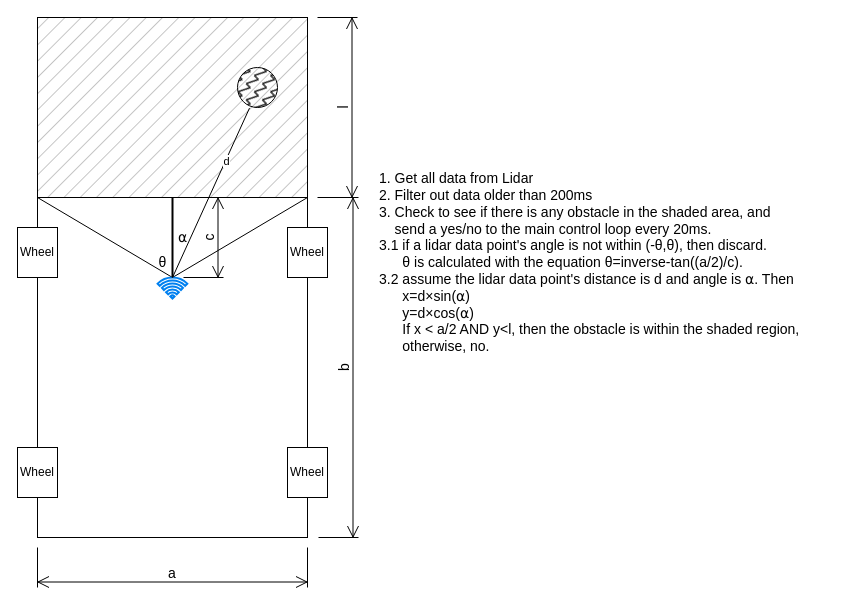
Image size: 845x605. Some labels were removed from this diagram. Each missing label, with the box of its shape:
Coffee Bot: (36, 196, 308, 538)
KEEP CLEAR: (36, 16, 308, 198)
Lidar: (156, 276, 188, 299)
